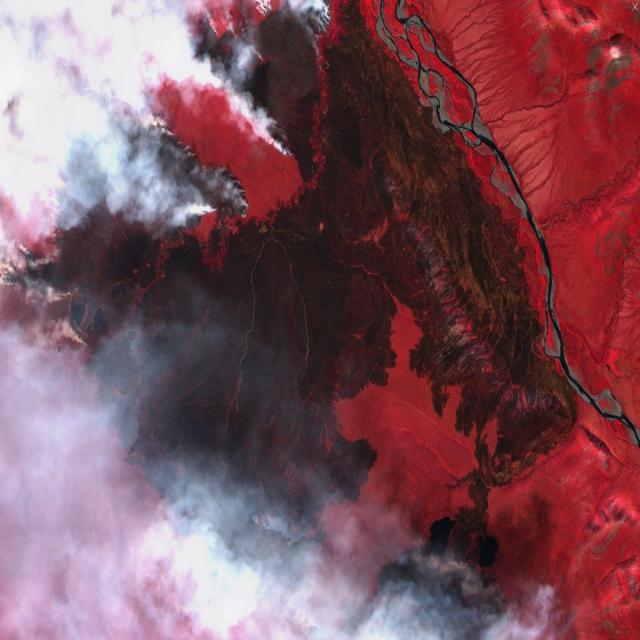fire: (0, 0, 340, 361), (292, 547, 520, 640)
